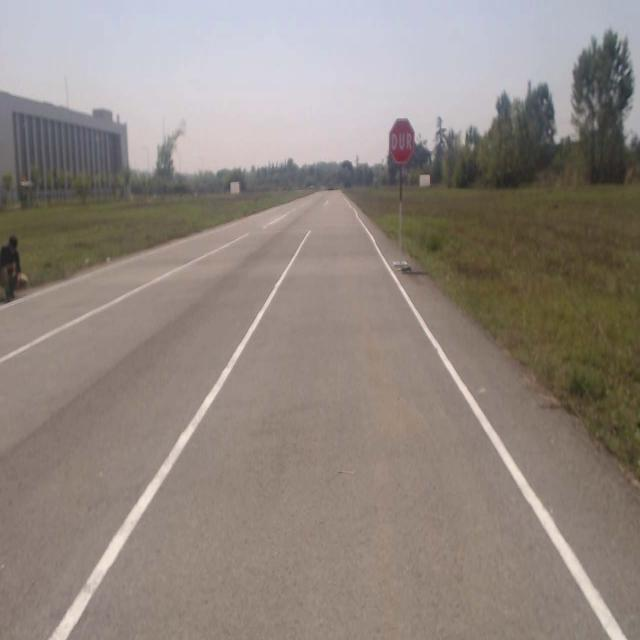dur: (390, 119, 416, 164)
